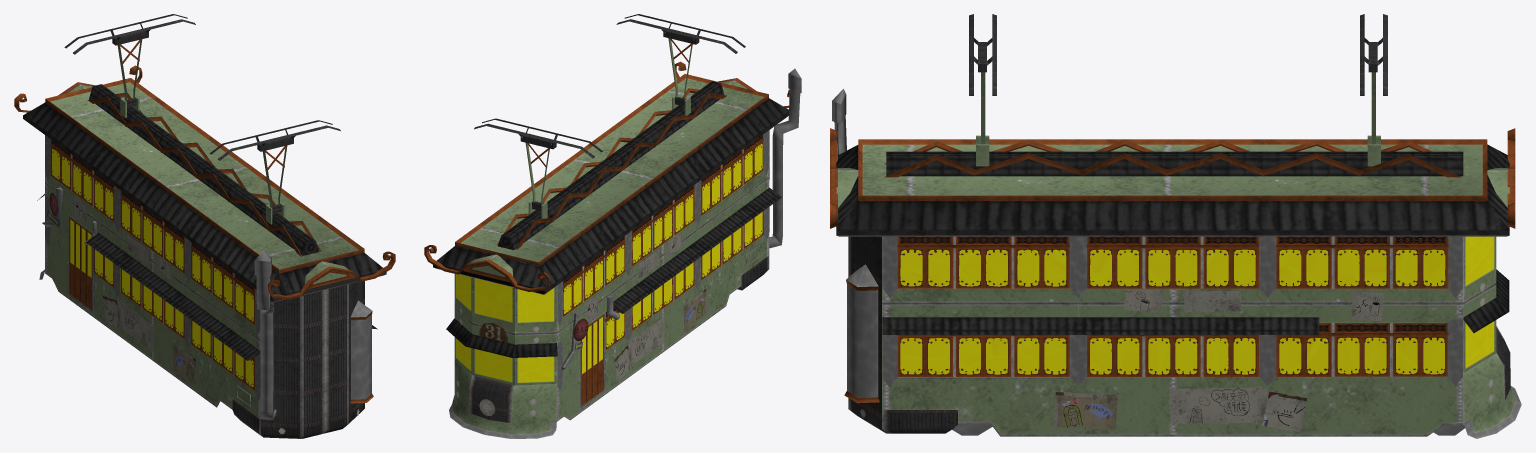
File: TrainV2.fbx
The picture shows the model from 3 angles, left to right: view 1: azimuth 30°, elevation 25°; view 2: azimuth 150°, elevation 25°; view 3: azimuth 270°, elevation 25°; orthographic projection. The views are drawn at different scales.
Visible parts, largest first — view 1: tram_signs_LOD2; view 2: tram_signs_LOD2; view 3: tram_signs_LOD2.
Part boxes in pixels (x1,y1,x2,y2): tram_signs_LOD2: (14,14,395,438); tram_signs_LOD2: (424,14,801,438); tram_signs_LOD2: (830,14,1521,438).
Bounding box in the file's own units: 3.29 × 6.3 × 10.69.
